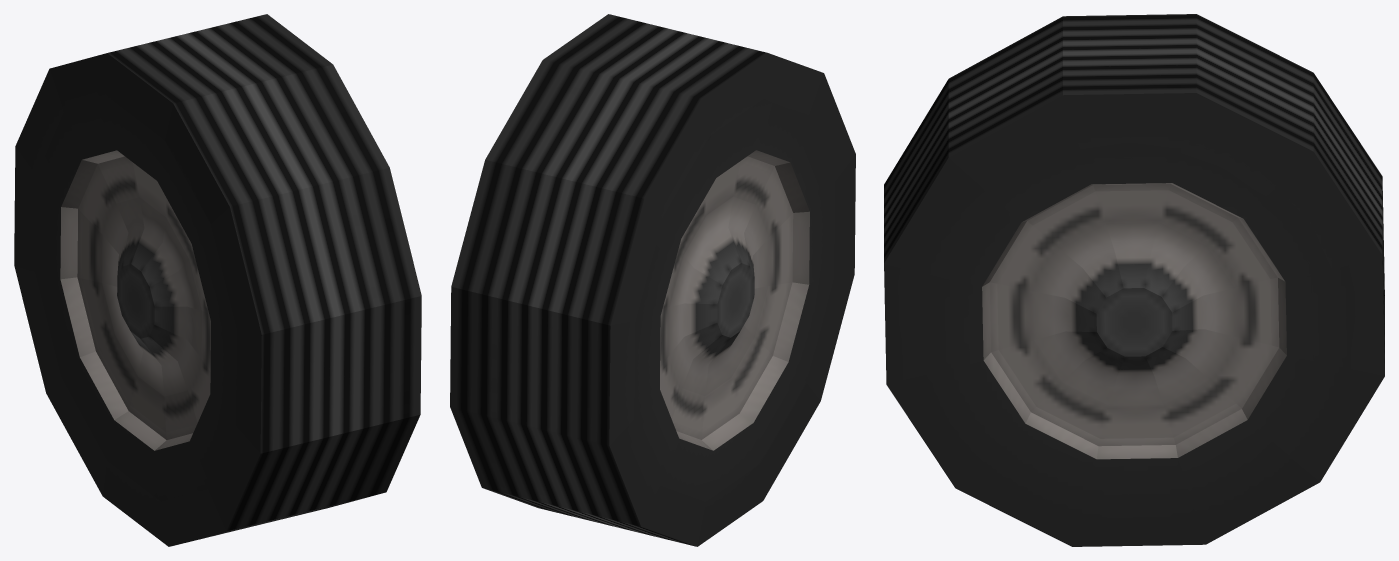
The model's file is D15WheelA.fbx.
The picture shows the model from 3 angles, left to right: view 1: azimuth 30°, elevation 25°; view 2: azimuth 150°, elevation 25°; view 3: azimuth 270°, elevation 25°; orthographic projection.
Visible parts, largest first — view 1: GavrilWheel; view 2: GavrilWheel; view 3: GavrilWheel.
Part boxes in pixels (x1,y1,x2,y2): GavrilWheel: (14,14,421,546); GavrilWheel: (450,14,855,546); GavrilWheel: (884,14,1384,546).
Size of the model in its own units: 0.3705 by 0.9486 by 0.9486.
